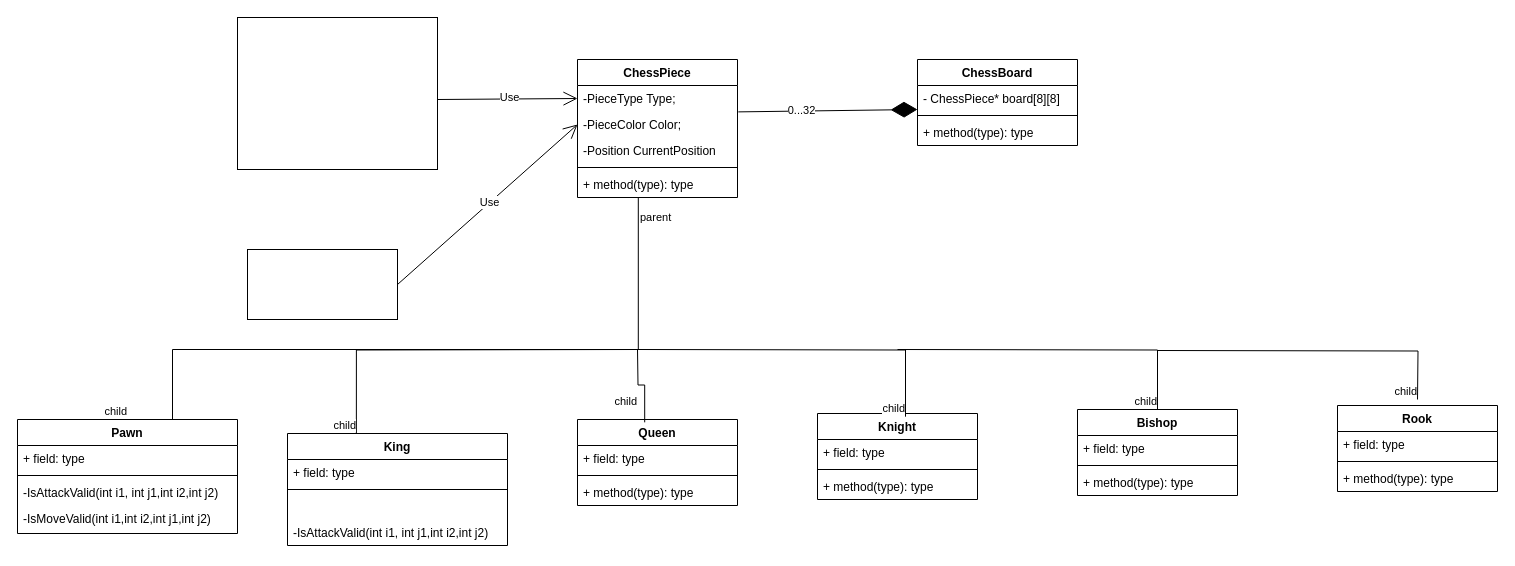
Image size: 1515x566. Some labels were removed from this diagram. Each missing label, with the centre of its shape:
enum class PieceColor{ Black, White };: the point at 322,284
Enum class PieceType { Pawn, King, Queen, Rook, Knight, Bishop };: the point at 337,93
